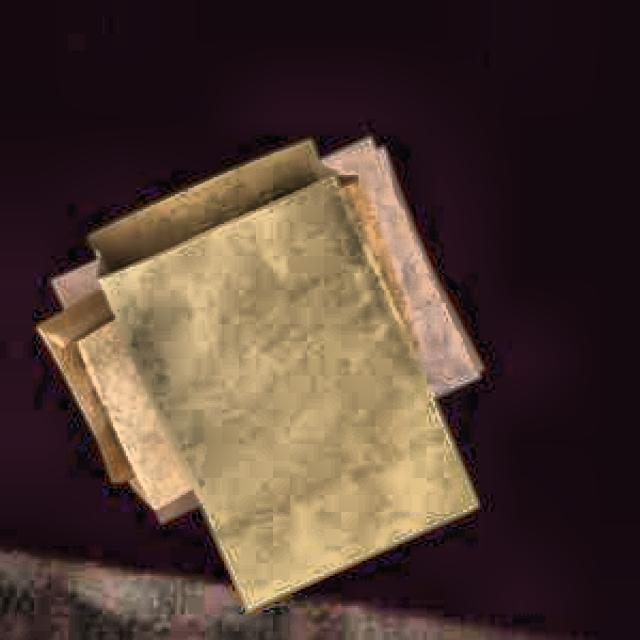Paper-bag: (91, 145, 483, 630), (42, 137, 492, 528)
